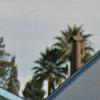Palm tree: (17, 19, 87, 84)
